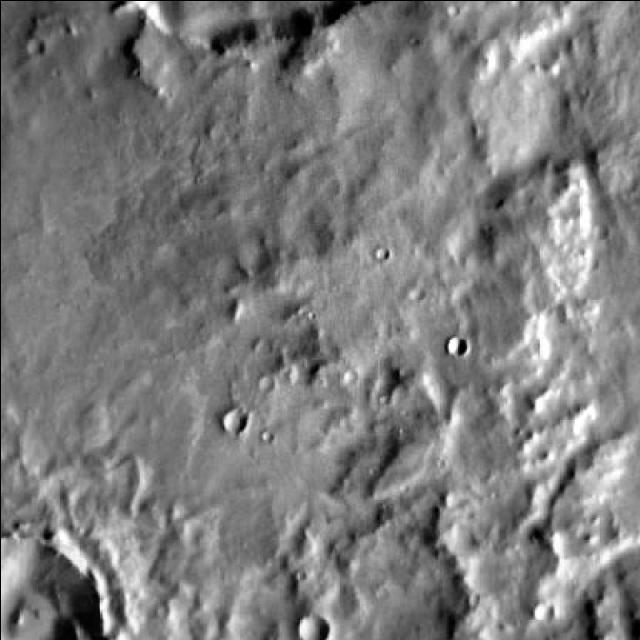crater: (0, 545, 86, 640), (294, 618, 324, 640), (217, 409, 241, 433), (443, 332, 463, 352), (537, 599, 557, 619), (26, 39, 42, 55)
